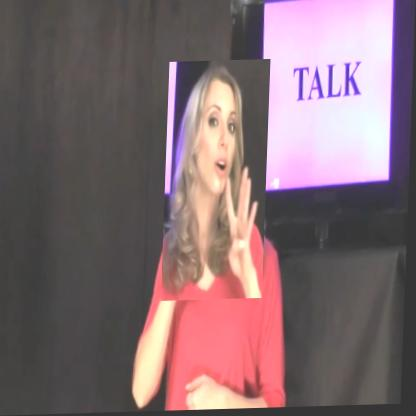Talk: (163, 61, 271, 302)
